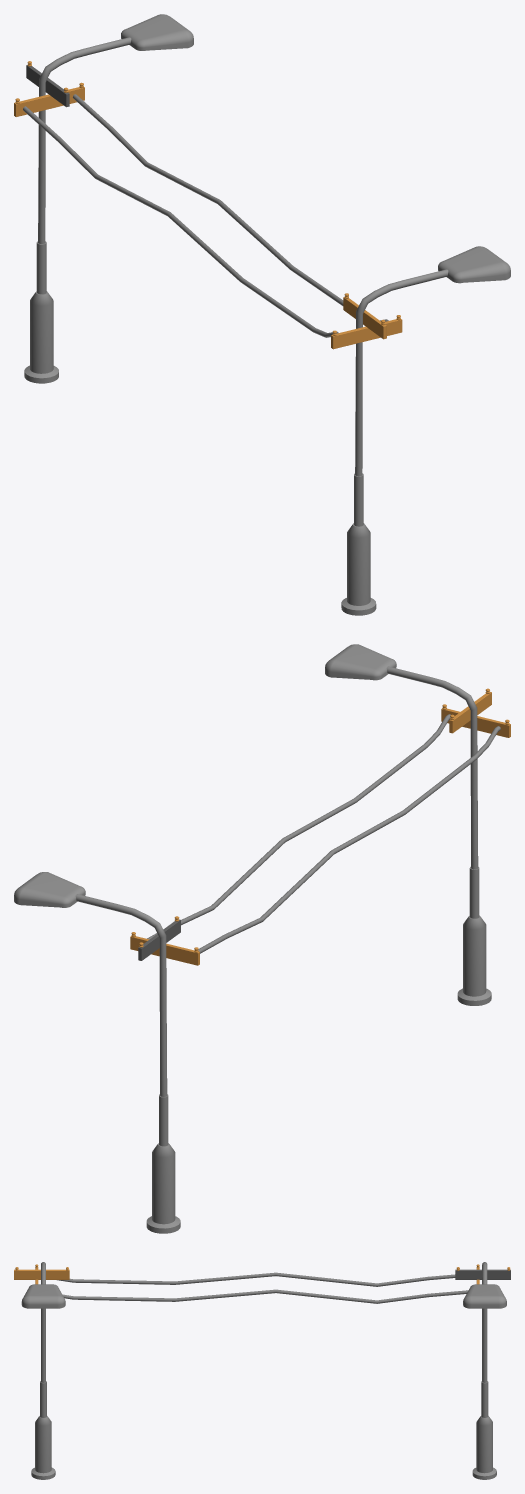
Rendered from poteau (1).fbx.
The picture shows the model from 3 angles, top to bottom: view 1: azimuth 30°, elevation 25°; view 2: azimuth 150°, elevation 25°; view 3: azimuth 270°, elevation 25°; orthographic projection. The views are drawn at different scales.
Parts seen in each view (by area): view 1: pCube82; view 2: pCube82; view 3: pCube82.
Boxes of the visible parts, left/top/right/bottom form: pCube82: left=14, top=14, right=510, bottom=615; pCube82: left=14, top=644, right=510, bottom=1233; pCube82: left=14, top=1262, right=510, bottom=1479.
Bounding box in the file's own units: 4.23 × 7.54 × 15.18.
